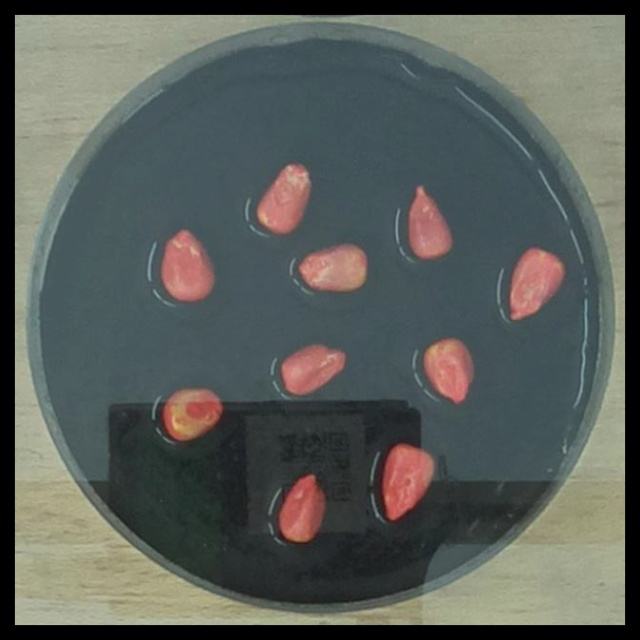Zea mays: (152, 218, 222, 307), (501, 239, 570, 327), (375, 434, 441, 526), (251, 155, 317, 240), (291, 235, 374, 299), (401, 176, 460, 266), (272, 463, 333, 548), (154, 380, 230, 448), (417, 331, 482, 410), (275, 334, 352, 400)
